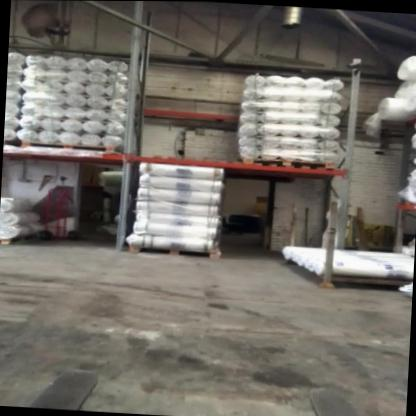vertical_damage: (111, 225, 132, 253)
